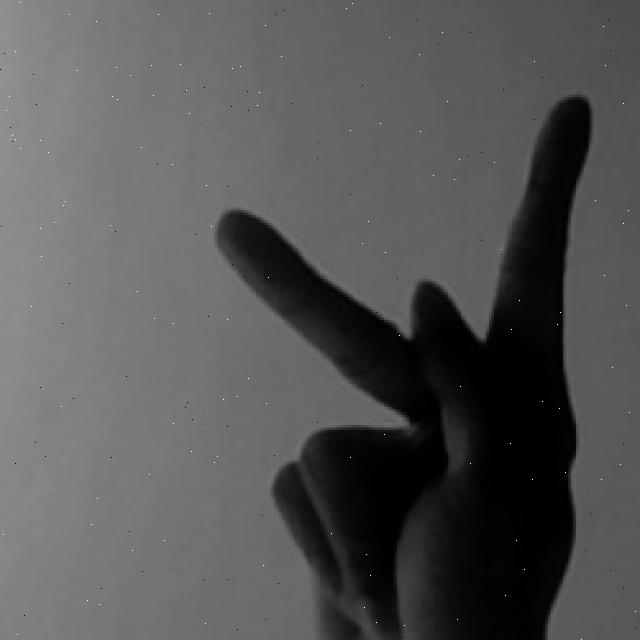K: (213, 91, 599, 640)
